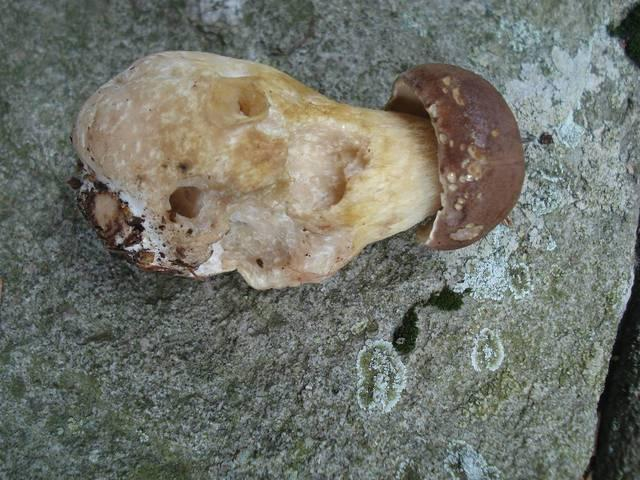poisonous_mushroom: (68, 48, 526, 291)
